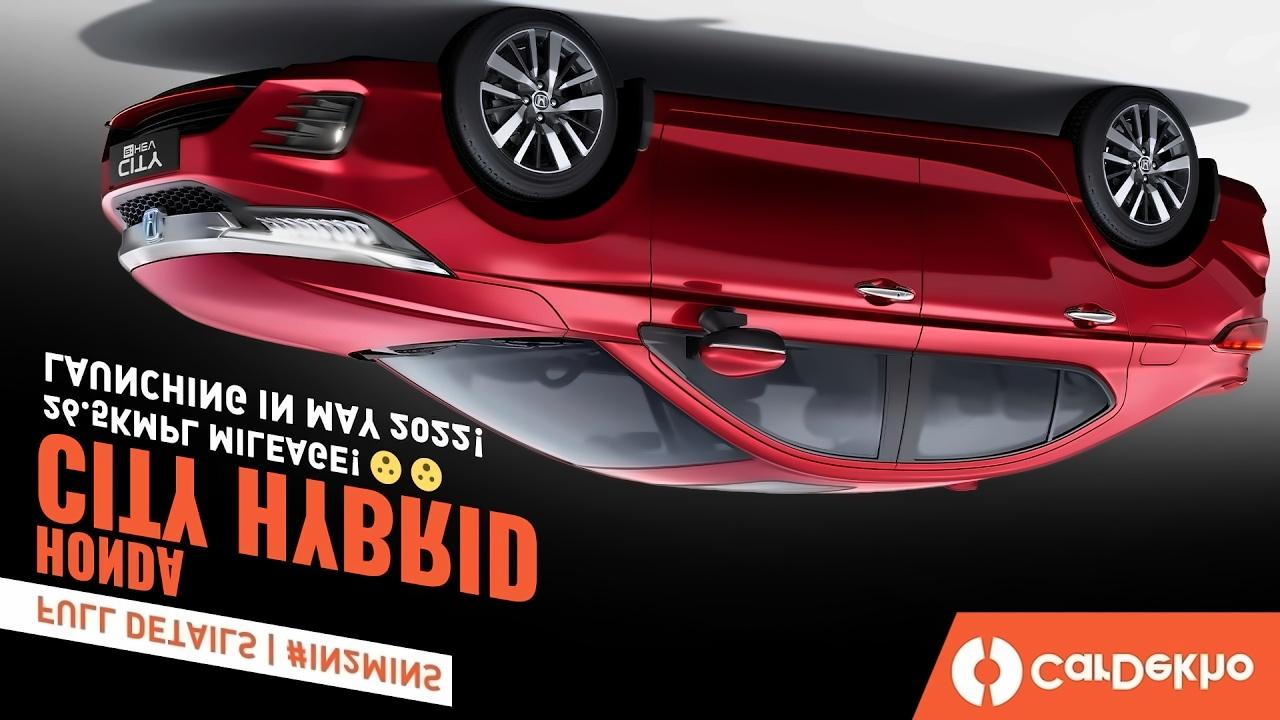Car hood: (118, 246, 572, 366)
Driver-s door - -F-R-: (654, 105, 924, 477)
Fender - -R-R-: (1062, 132, 1239, 355)
Front bumper: (384, 70, 660, 360), (83, 50, 483, 220)
Headlight - -R-: (207, 203, 459, 285)
Passenger-s door - -R-R-: (923, 126, 1130, 484)
Rear bumper: (1182, 148, 1274, 313)
Rear light - -R-: (1204, 308, 1277, 369)
Side bumper - -R-: (612, 68, 1086, 184)
Side mirror - -R-: (680, 296, 799, 384)
